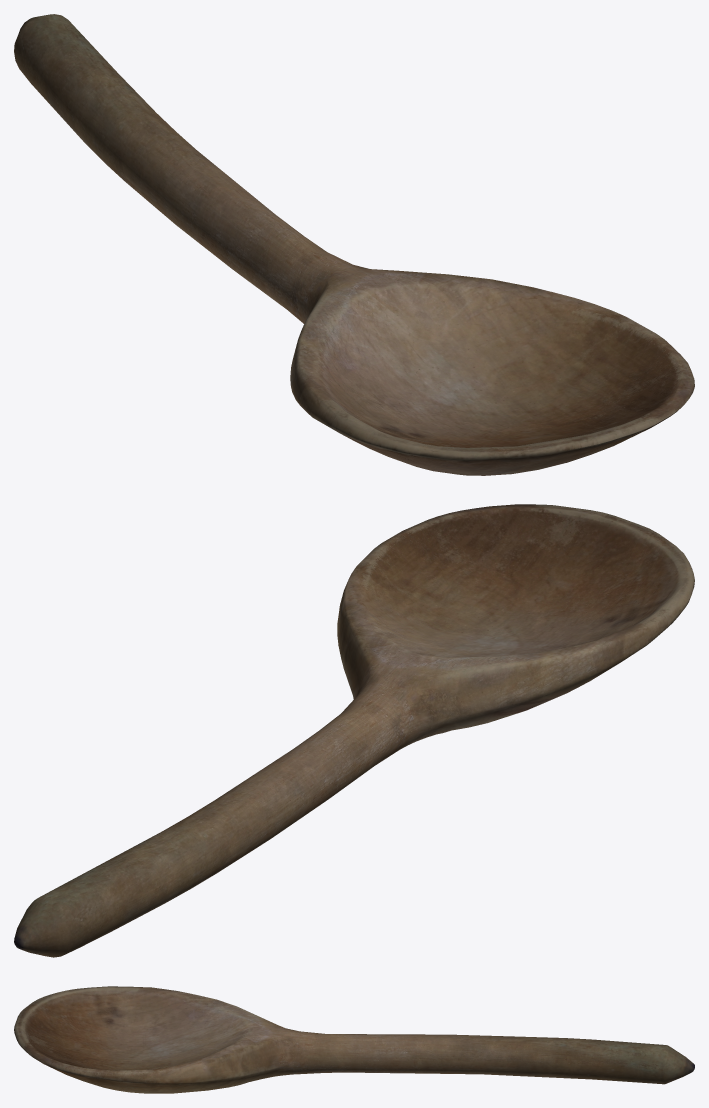
File: wooden_spoon.glb
The picture shows the model from 3 angles, top to bottom: view 1: azimuth 30°, elevation 25°; view 2: azimuth 150°, elevation 25°; view 3: azimuth 270°, elevation 25°; orthographic projection. The views are drawn at different scales.
Parts seen in each view (by area): view 1: wooden_spoon; view 2: wooden_spoon; view 3: wooden_spoon.
Boxes of the visible parts, x1,y1,x2,y2 form: wooden_spoon: (14,14,694,475); wooden_spoon: (14,504,694,957); wooden_spoon: (14,986,694,1093).
Bounding box in the file's own units: 0.0866 × 0.0251 × 0.2775.
Materials: 1 (1 with a texture image).
